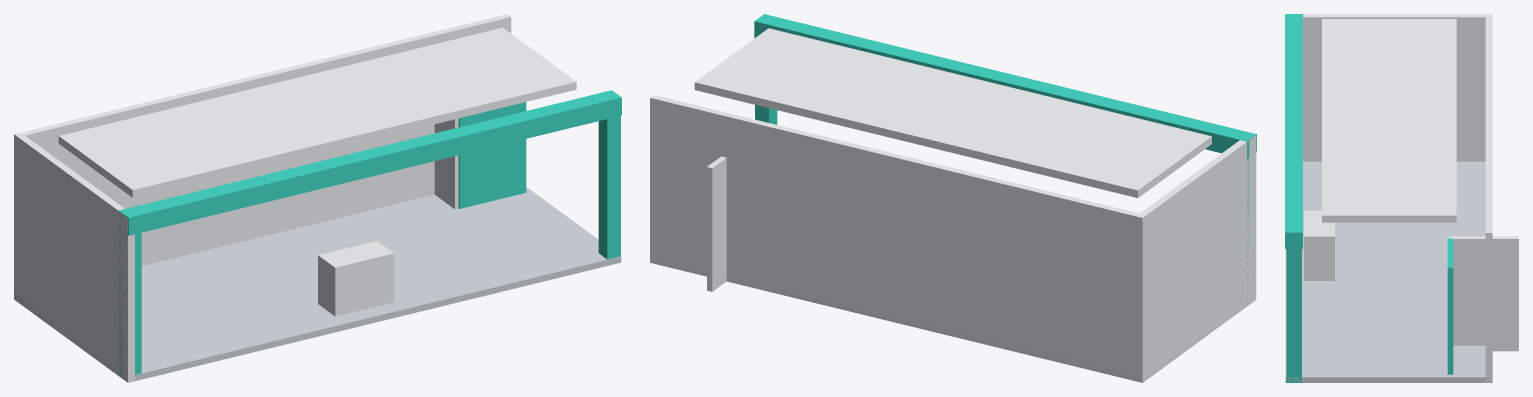
3 renders of one model, left to right at view 1: azimuth 30°, elevation 25°; view 2: azimuth 150°, elevation 25°; view 3: azimuth 270°, elevation 25°, orthographic. The views are drawn at different scales.
Parts seen in each view (by area): view 1: Exhibition Booth Concept; view 2: Exhibition Booth Concept; view 3: Exhibition Booth Concept.
Part boxes in pixels (x1=…): Exhibition Booth Concept: x1=14, y1=14, x2=621, y2=382; Exhibition Booth Concept: x1=650, y1=14, x2=1256, y2=382; Exhibition Booth Concept: x1=1285, y1=14, x2=1518, y2=382.
Size of the model in its own units: 10 by 3.34 by 4.52.
